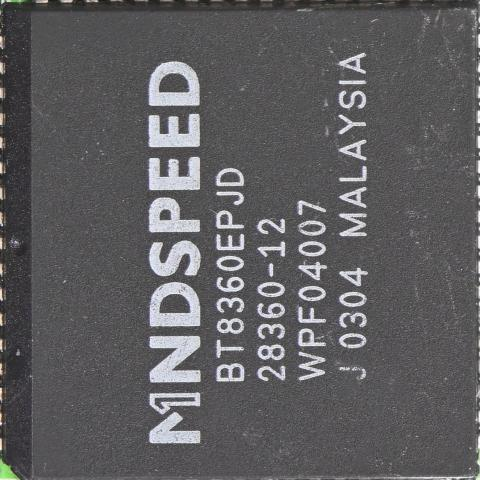IC: (15, 6, 476, 474)
